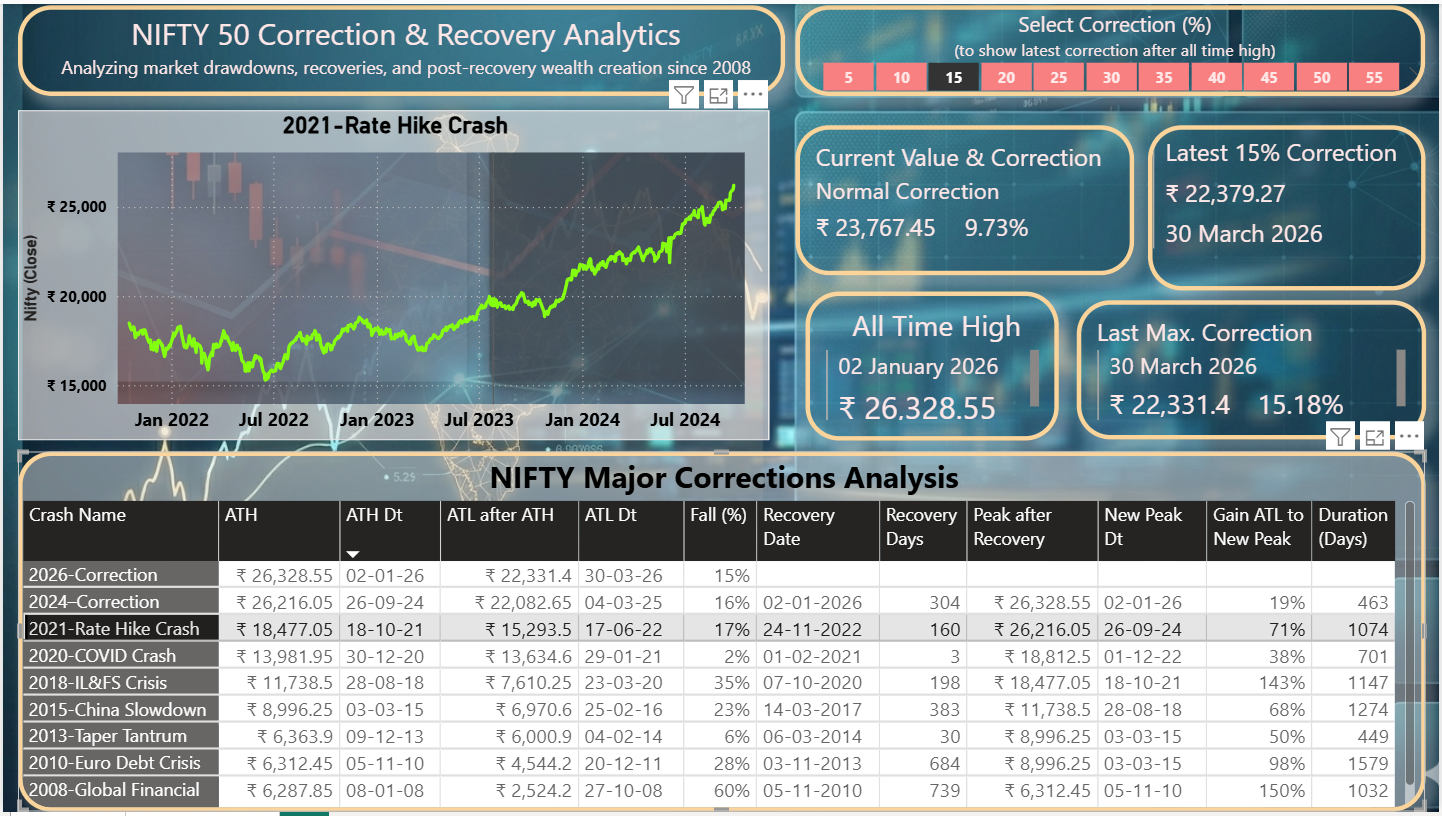

What the dashboard file says about the page in this screenshot:
{"tool":"powerbi","page":{"name":"NIFTY_50 ","canvas":[1280,720],"ordinal":0},"visuals":[{"type":"multiRowCard","title":"All Time High","fields":{"Values":["Nifty.All Time High","Nifty.All Time High Dt"]},"box":[715.2,255.5,225.8,132.5],"z":0},{"type":"multiRowCard","title":"Last Max. Correction","fields":{"Values":["Nifty.Correction","Nifty.Correction Dt","Nifty.correction (%)"]},"box":[955.8,263.6,310.9,124.4],"z":1000},{"type":"multiRowCard","title":"Current Value & Correction","fields":{"Values":["Nifty.Current Value","Nifty.Current Correction","Nifty.Play Book"]},"box":[705.7,108.2,301.5,133.8],"z":2000},{"type":"slicer","title":"Select Correction (%)","fields":{"Values":["Fall From ATH.Fall Percentage"]},"box":[705.8,1.2,561,80.8],"z":3000},{"type":"multiRowCard","fields":{"Values":["Fall From ATH.Header","Nifty.Fall Value","Nifty.Date of Fall"]},"box":[1019.4,108.2,247.4,147.4],"z":4000},{"type":"pivotTable","title":"NIFTY Major Corrections Analysis","fields":{"Rows":["Crash History.Crash Name"],"Values":["Nifty.ATH","Nifty.ATH Dt","Nifty.ATL after ATH","Nifty.ATL Dt","Nifty.Max fall","Nifty.Recovery Date","Nifty.Recovery Days","Nifty.Peak after Recovery","Nifty.New Peak Dt","Nifty.Gain ATL to New Peak","Nifty.Duration"]},"box":[13.5,398.8,1253.2,320.4],"z":5000},{"type":"card","title":"NIFTY 50 Correction & Recovery Analytics","fields":{"Values":["Crash History.Title"]},"box":[13.4,1.3,683.2,80.7],"z":6000},{"type":"lineChart","title":"Nifty (Close) by Date","fields":{"Y":["Sum(Nifty.Close)"],"Category":["Nifty.Date"]},"box":[13.5,94.6,669.2,293.4],"z":7000}]}

Visuals, with their boxes in screenshot pixels (x1, y1, x2, y2), scaled from the page's 1280x720 canvas onto the 1442x816 screenshot:
"All Time High" multiRowCard: 806:290:1060:440
"Last Max. Correction" multiRowCard: 1077:299:1427:440
"Current Value & Correction" multiRowCard: 795:123:1135:274
"Select Correction (%)" slicer: 795:1:1427:93
multiRowCard - Fall From ATH.Header x Nifty.Fall Value: 1148:123:1427:290
"NIFTY Major Corrections Analysis" pivotTable: 15:452:1427:815
"NIFTY 50 Correction & Recovery Analytics" card: 15:1:785:93
"Nifty (Close) by Date" lineChart: 15:107:769:440
